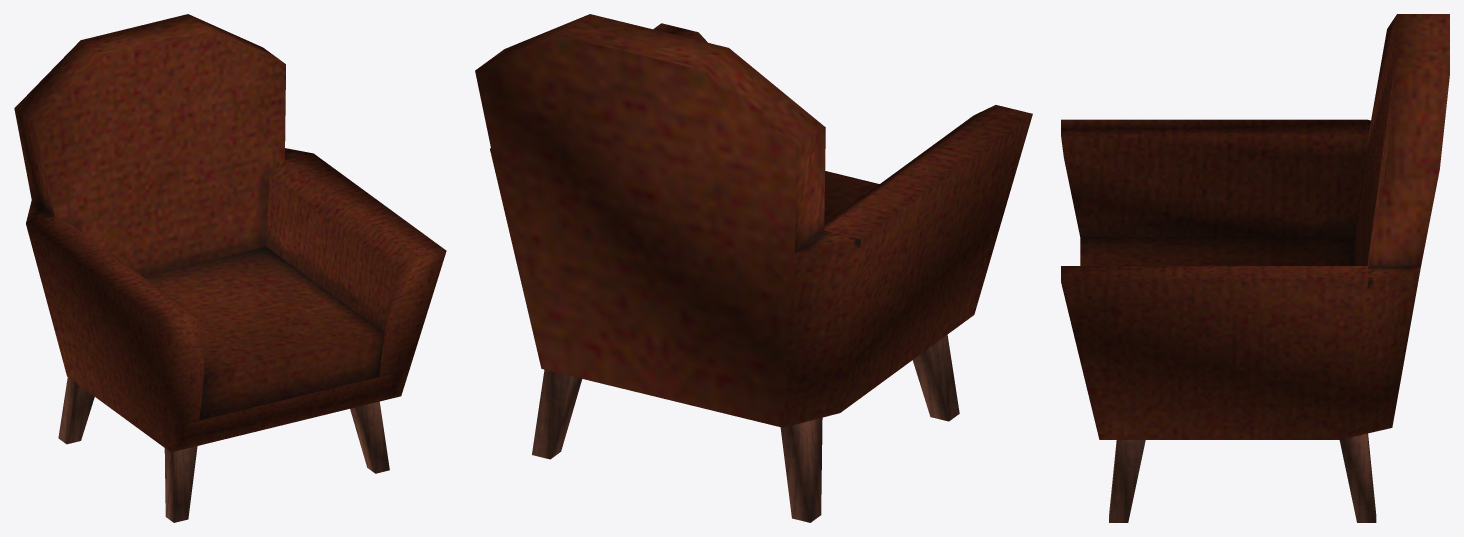
File: [PSX] Arm Chair Model.fbx
The picture shows the model from 3 angles, left to right: view 1: azimuth 30°, elevation 25°; view 2: azimuth 150°, elevation 25°; view 3: azimuth 270°, elevation 25°; orthographic projection. The views are drawn at different scales.
Parts seen in each view (by area): view 1: Arm Chair; view 2: Arm Chair; view 3: Arm Chair.
Part boxes in pixels (x1,y1,x2,y2): Arm Chair: [14, 14, 446, 522]; Arm Chair: [475, 14, 1032, 522]; Arm Chair: [1061, 14, 1449, 522].
Size of the model in its own units: 80 by 96 by 81.
Materials: 1 (1 with a texture image).
